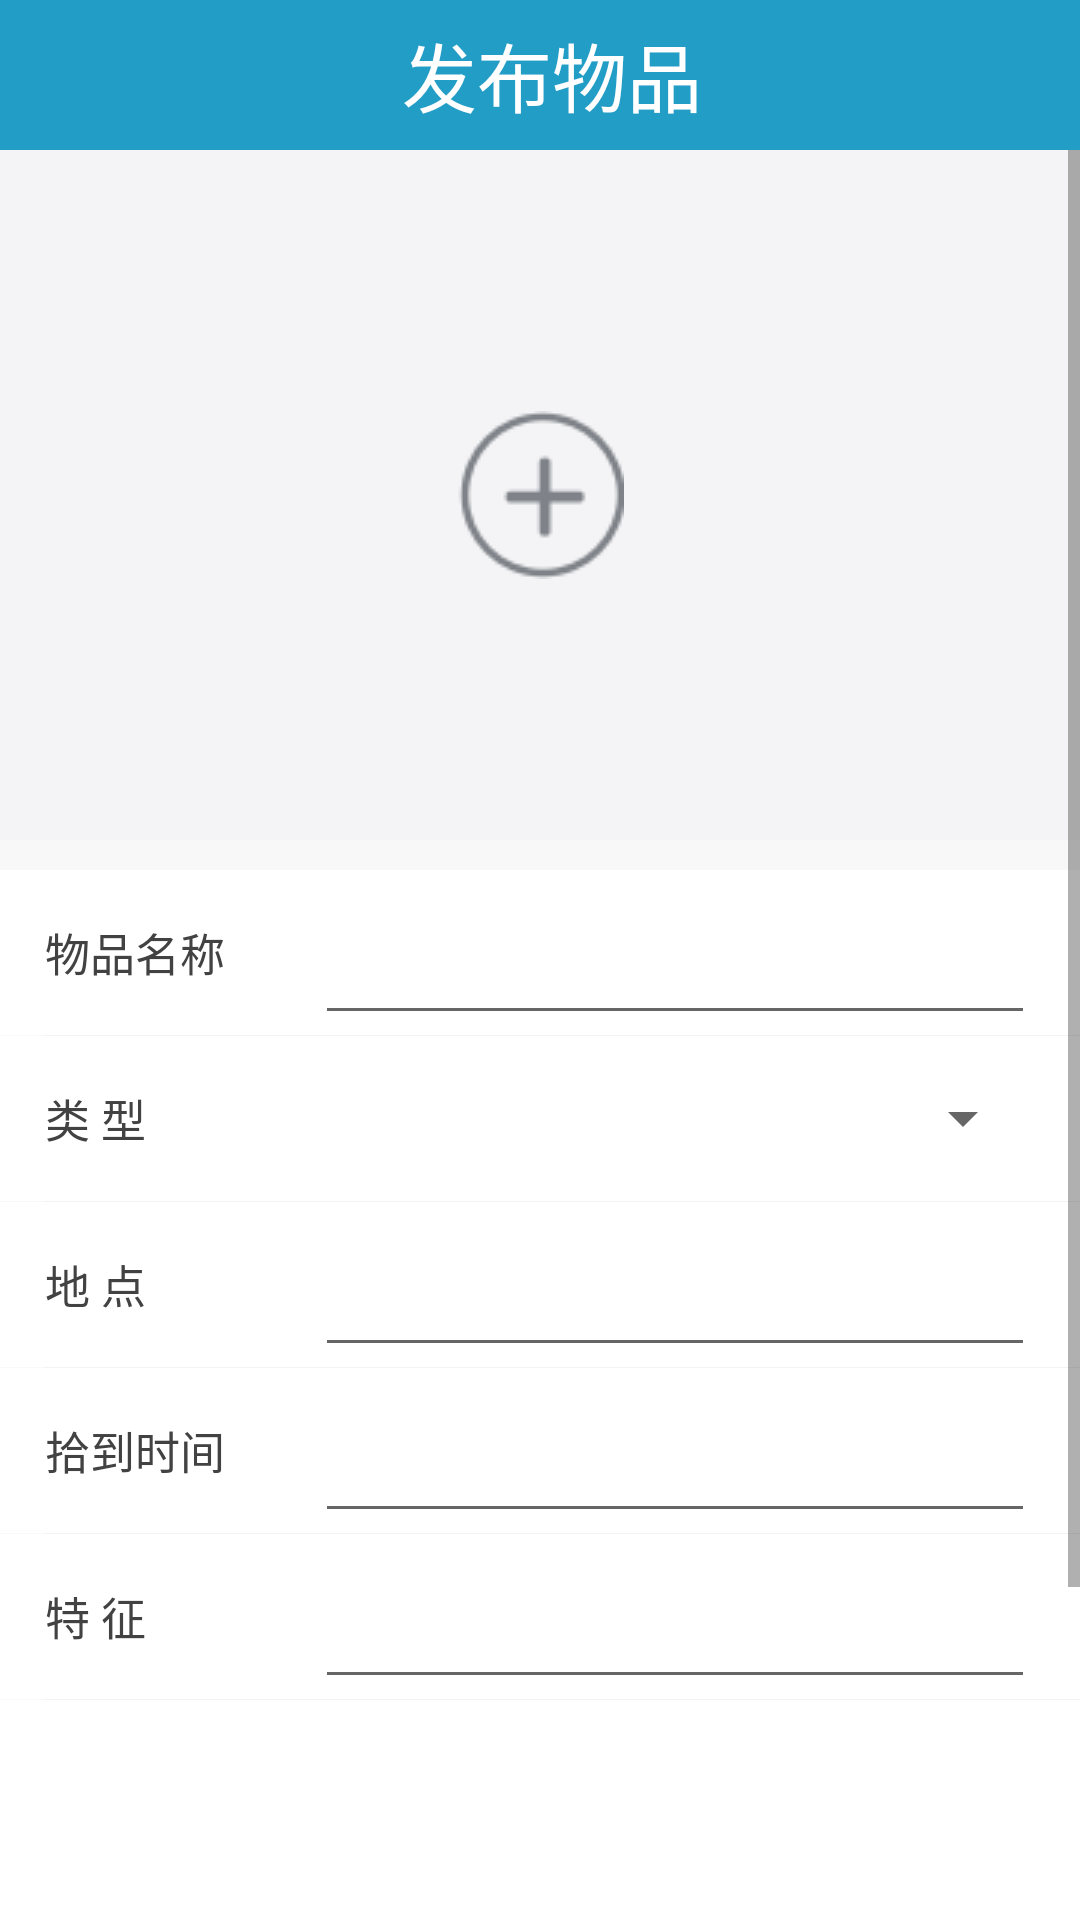

Locate icon controls on the screen. Image size 1080 × 1920, boxes as (x1, y1, x2, y2).
issue add: (460, 411, 624, 579)
